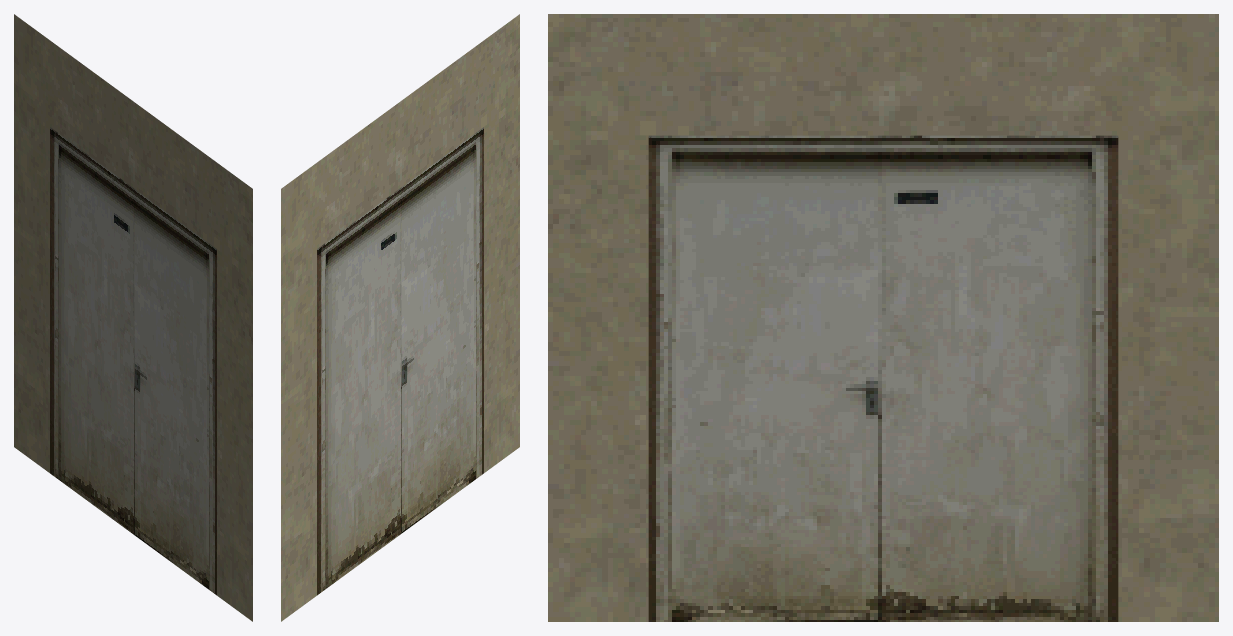
Rendered from stuco_wall_old_door.glb.
The picture shows the model from 3 angles, left to right: view 1: azimuth 30°, elevation 25°; view 2: azimuth 150°, elevation 25°; view 3: azimuth 270°, elevation 25°; orthographic projection. The views are drawn at different scales.
Visible parts, largest first — view 1: stuco_wall_old_door; view 2: stuco_wall_old_door; view 3: stuco_wall_old_door.
Boxes of the visible parts, left/top/right/bottom form: stuco_wall_old_door: left=14, top=14, right=252, bottom=621; stuco_wall_old_door: left=281, top=14, right=519, bottom=621; stuco_wall_old_door: left=548, top=14, right=1218, bottom=621.
Size of the model in its own units: 0 by 3 by 3.
1 material, 1 textured.
